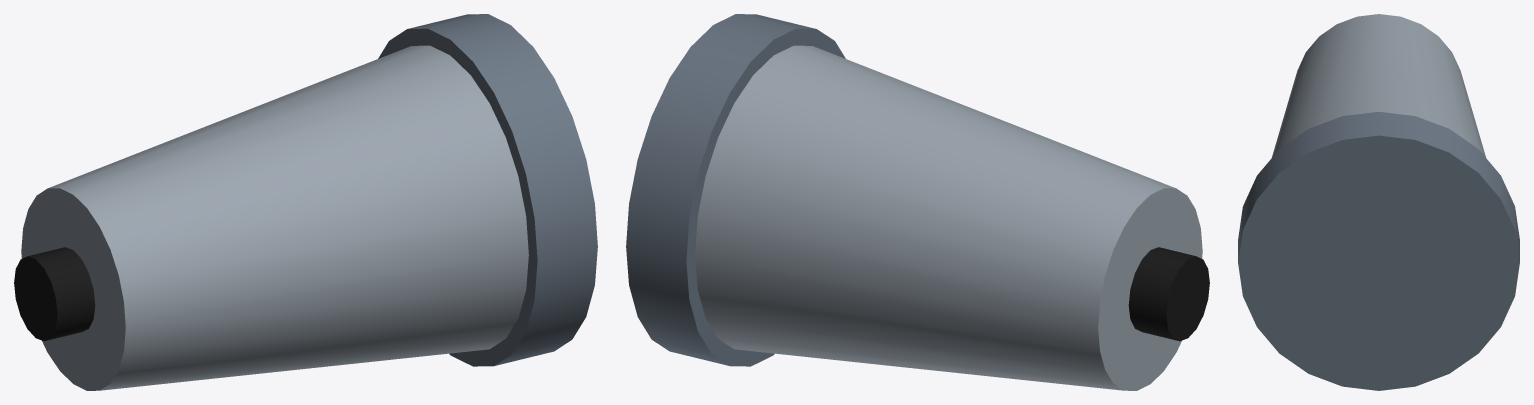
File: adapter-sleeve.glb
The picture shows the model from 3 angles, left to right: view 1: azimuth 30°, elevation 25°; view 2: azimuth 150°, elevation 25°; view 3: azimuth 270°, elevation 25°; orthographic projection. The views are drawn at different scales.
Bounding box in the file's own units: 0.63 × 0.4 × 0.4.
